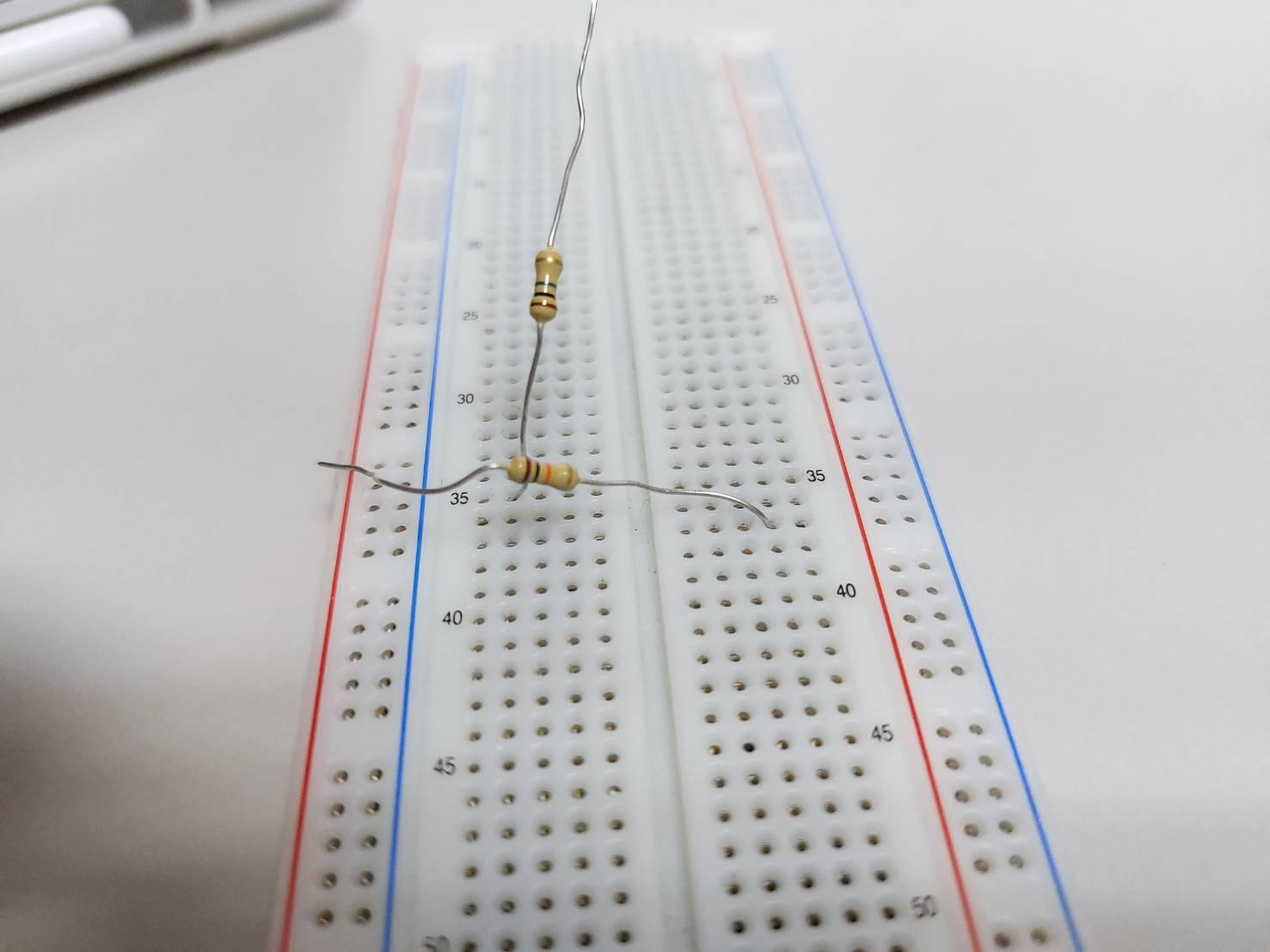resistor: (505, 455, 580, 493), (530, 249, 560, 324)
